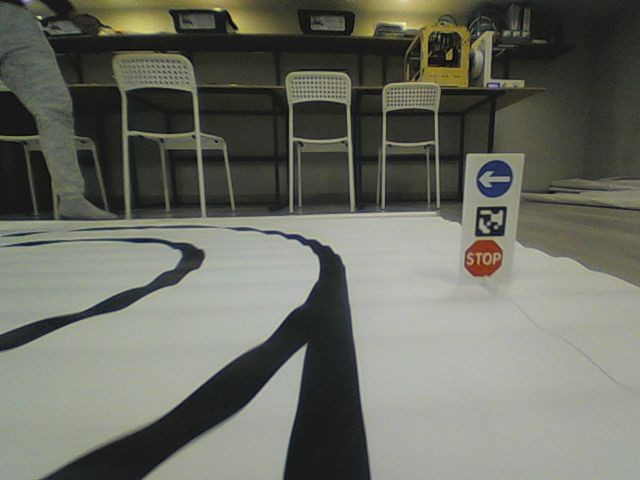Stop: (462, 238, 506, 279)
